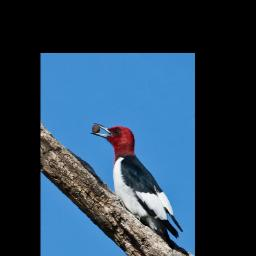Woodpecker: (89, 120, 184, 242)
